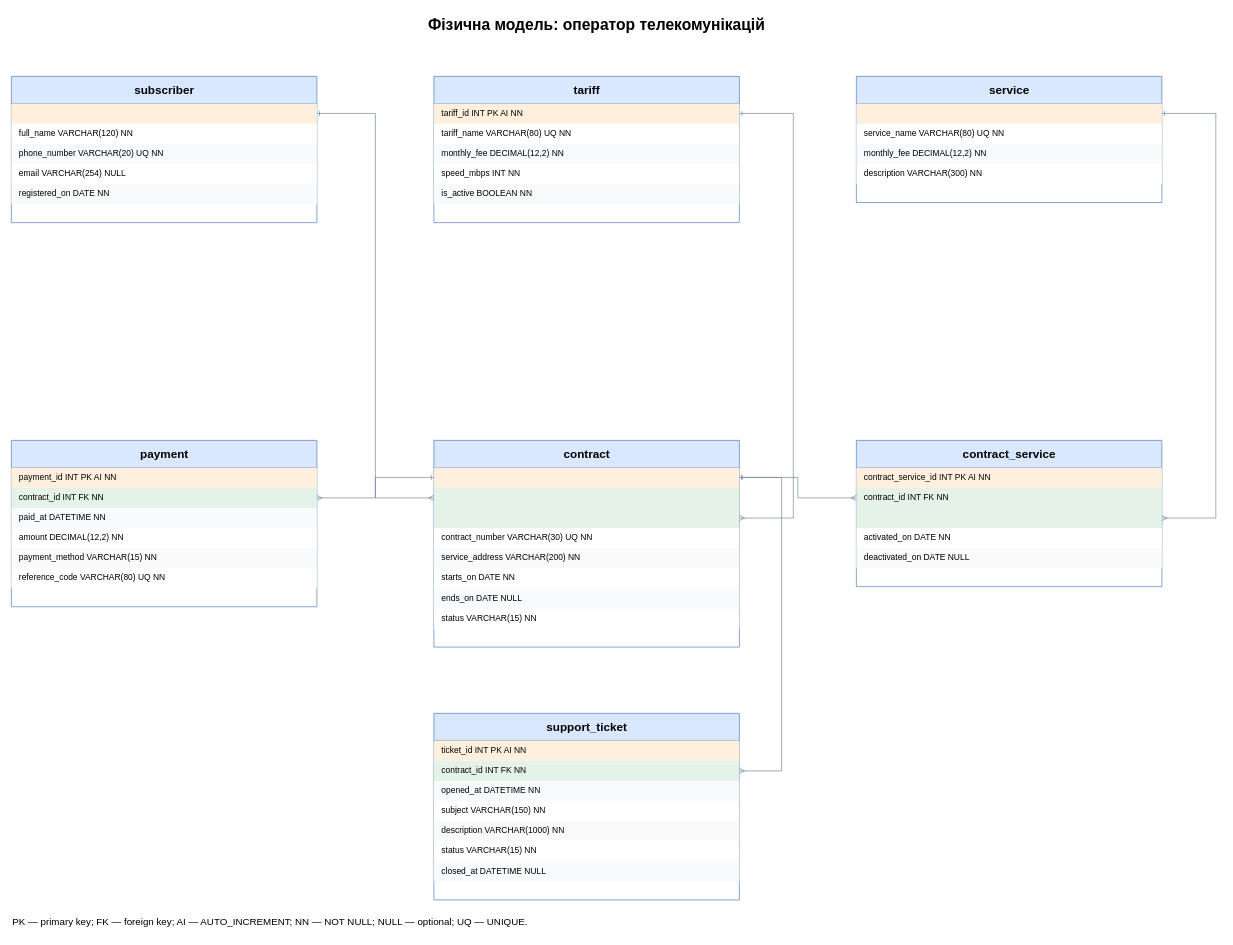
The diagram is 1233 pixels wide and 945 high, and some of its shapes have lost their labels. The centre of each missing label's shape, as x and y in pixels:
"contract_id INT PK AI NN" goes at (586,477).
"service_id INT FK NN" goes at (1009,518).
"service_id INT PK AI NN" goes at (1009,113).
"subscriber_id INT FK NN" goes at (586,498).
"subscriber_id INT PK AI NN" goes at (164,113).
"tariff_id INT FK NN" goes at (586,518).
